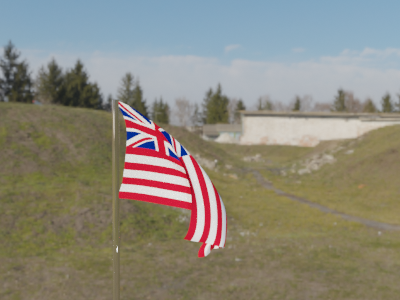Malaysia flag: (116, 95, 231, 260)
